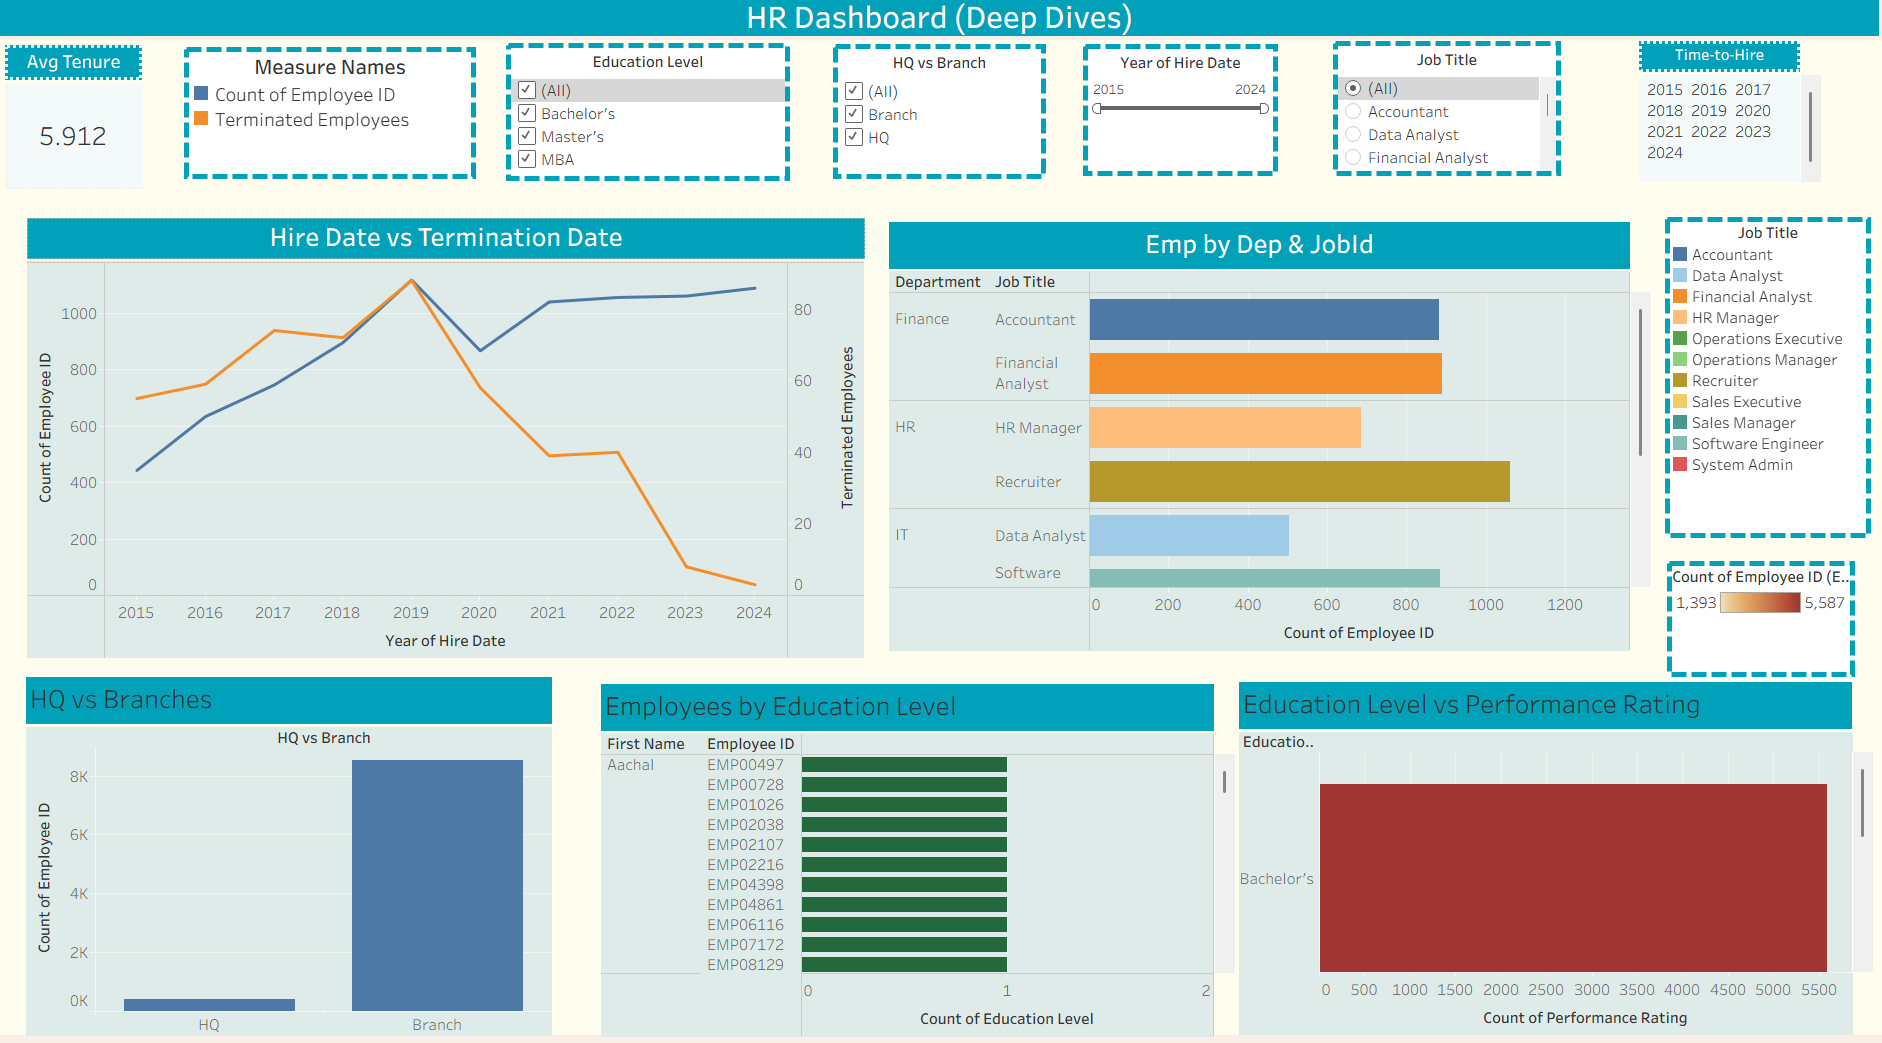

What the dashboard file says about the page in this screenshot:
{"tool":"tableau","page":{"name":"Dashboard 2","canvas":[1000,1000],"units":"permille","ordinal":0},"visuals":[{"type":"title","box":[4.9,9.4,990.3,57.5]},{"type":"worksheet","title":"KPI4","mark":"Automatic","box":[28,75.5,66.4,224]},{"type":"filter","title":"HQ vs Branches","param":"[federated.1a7s9ks0zl6jkw19umaup15d6qiy].[none:Calculation_0729810080092163:nk]","box":[106,75.5,97.5,116.2]},{"type":"worksheet","title":"KPI 5","mark":"Automatic","box":[905.6,75.5,86.5,155.7]},{"type":"filter","title":"Education Level vs Performance Rating ","param":"[federated.1a7s9ks0zl6jkw19umaup15d6qiy].[none:Education Level:nk]","box":[688,77.8,97.5,143.7]},{"type":"legend","title":"Hire Date vs Termination Date","param":"[federated.1a7s9ks0zl6jkw19umaup15d6qiy].[:Measure Names]","box":[207.8,81.4,153.6,104.2]},{"type":"filter","title":"Education Level vs Performance Rating ","param":"[federated.1a7s9ks0zl6jkw19umaup15d6qiy].[cnt:Performance Rating:qk]","box":[358.9,82.6,97.5,111.4]},{"type":"filter","title":"Hire Date vs Termination Date","param":"[federated.1a7s9ks0zl6jkw19umaup15d6qiy].[tyr:Hire Date:qk]","box":[795.2,82.6,92.6,122.2]},{"type":"legend","title":"Education Level vs Performance Rating ","param":"[federated.1a7s9ks0zl6jkw19umaup15d6qiy].[cnt:Employee ID (Employee_Dim.csv):qk]","box":[489.9,83.8,181.6,112.6]},{"type":"worksheet","title":"Hire Date vs Termination Date","mark":"Automatic","rows":["Employee ID","Calculation_0729810069446658"],"cols":["Hire Date"],"box":[19.5,216.8,440.6,415.6]},{"type":"worksheet","title":"Emp by Dep & JobId","mark":"Automatic","rows":["Department","Job Title"],"cols":["Employee ID"],"box":[473.5,225.2,400.4,404.8]},{"type":"legend","title":"Emp by Dep & JobId","param":"[federated.1a7s9ks0zl6jkw19umaup15d6qiy].[none:Job Title:nk]","box":[881.2,256.3,108.5,303]},{"type":"worksheet","title":"HQ vs Branches","mark":"Automatic","rows":["Employee ID"],"cols":["Calculation_0729810080092163"],"box":[30.5,638.3,276.7,338.9]},{"type":"worksheet","title":"Education Level vs Performance Rating ","mark":"Automatic","rows":["Education Level"],"cols":["Performance Rating"],"box":[660.6,646.7,333.3,332.9]},{"type":"worksheet","title":"Employees by Education Level","mark":"Automatic","rows":["First Name","Employee ID"],"cols":["Education Level"],"box":[322.4,661.1,333.3,332.9]}]}

Visuals, with their boxes on the dashboard's canvas, which has no fixed pixel size, in thousandths of its width and height (x1, y1, x2, y2). These are canvas units, not pixel positions in the 1882x1043 screenshot, which may show the page scaled, cropped or inside an application window:
title: {"left": 5, "top": 9, "right": 995, "bottom": 67}
"KPI4" worksheet: {"left": 28, "top": 76, "right": 94, "bottom": 300}
"HQ vs Branches" filter: {"left": 106, "top": 76, "right": 204, "bottom": 192}
"KPI 5" worksheet: {"left": 906, "top": 76, "right": 992, "bottom": 231}
"Education Level vs Performance Rating " filter: {"left": 688, "top": 78, "right": 786, "bottom": 222}
"Hire Date vs Termination Date" legend: {"left": 208, "top": 81, "right": 361, "bottom": 186}
"Education Level vs Performance Rating " filter: {"left": 359, "top": 83, "right": 456, "bottom": 194}
"Hire Date vs Termination Date" filter: {"left": 795, "top": 83, "right": 888, "bottom": 205}
"Education Level vs Performance Rating " legend: {"left": 490, "top": 84, "right": 672, "bottom": 196}
"Hire Date vs Termination Date" worksheet: {"left": 20, "top": 217, "right": 460, "bottom": 632}
"Emp by Dep & JobId" worksheet: {"left": 474, "top": 225, "right": 874, "bottom": 630}
"Emp by Dep & JobId" legend: {"left": 881, "top": 256, "right": 990, "bottom": 559}
"HQ vs Branches" worksheet: {"left": 30, "top": 638, "right": 307, "bottom": 977}
"Education Level vs Performance Rating " worksheet: {"left": 661, "top": 647, "right": 994, "bottom": 980}
"Employees by Education Level" worksheet: {"left": 322, "top": 661, "right": 656, "bottom": 994}
